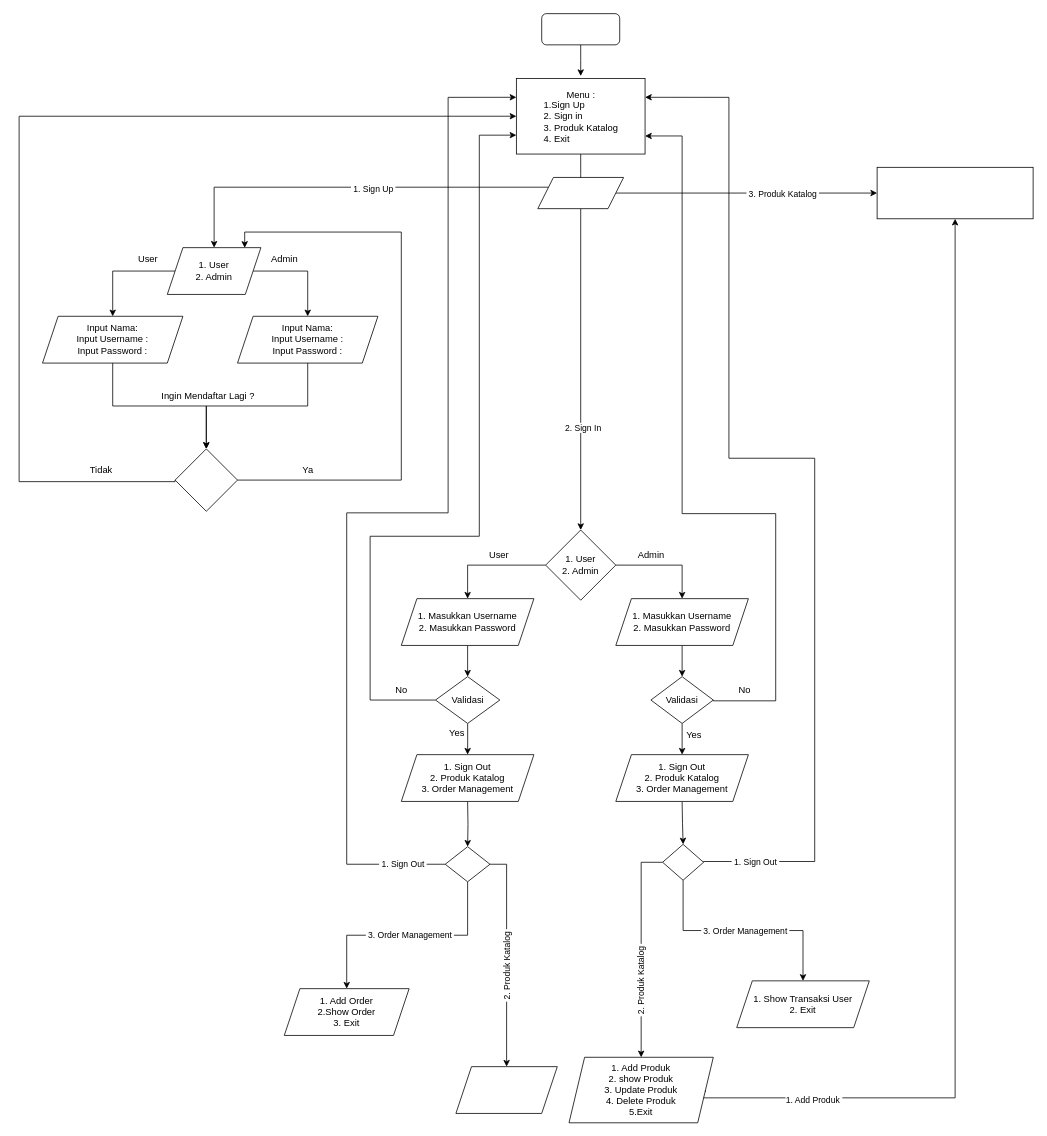
Some shapes in this 1047 by 1136 pixel diagram are drawn without their labels. Here are the shapes that lost their labels. From the top down, the centre of each, then its label:
(x=580, y=29): Mulai
(x=580, y=193): Pilihan :
(x=954, y=193): 1.View Produk yang di tambahkan oleh Admin 2. Exit
(x=206, y=479): Ya / Tidak
(x=506, y=1089): 1. Show Produk 2. Exit
